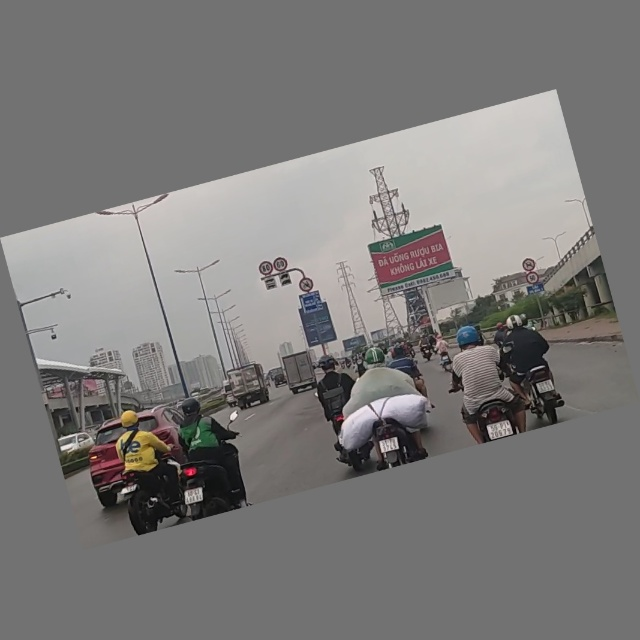P.103a: (522, 258, 537, 273)
P.104: (296, 276, 316, 295)
P.127*50: (526, 271, 541, 287)
P.127*60: (272, 257, 288, 273)
P.127*80: (258, 259, 276, 277)
